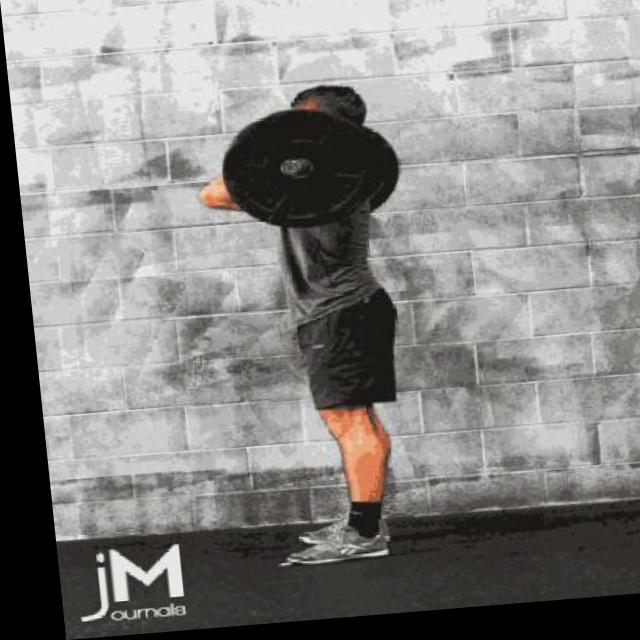barbell: (209, 104, 377, 242)
